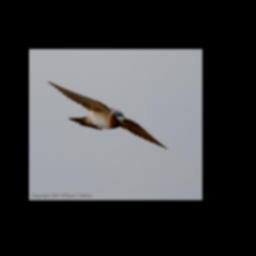Swallow: (46, 79, 169, 148)
